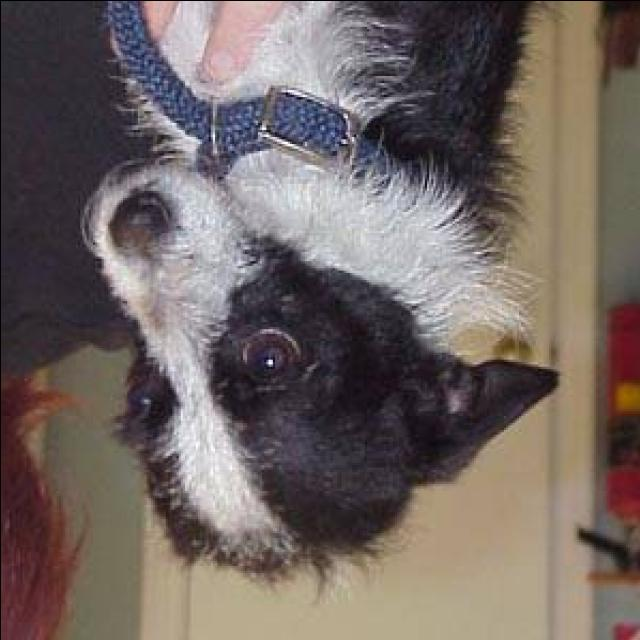dog: (43, 0, 563, 582)
